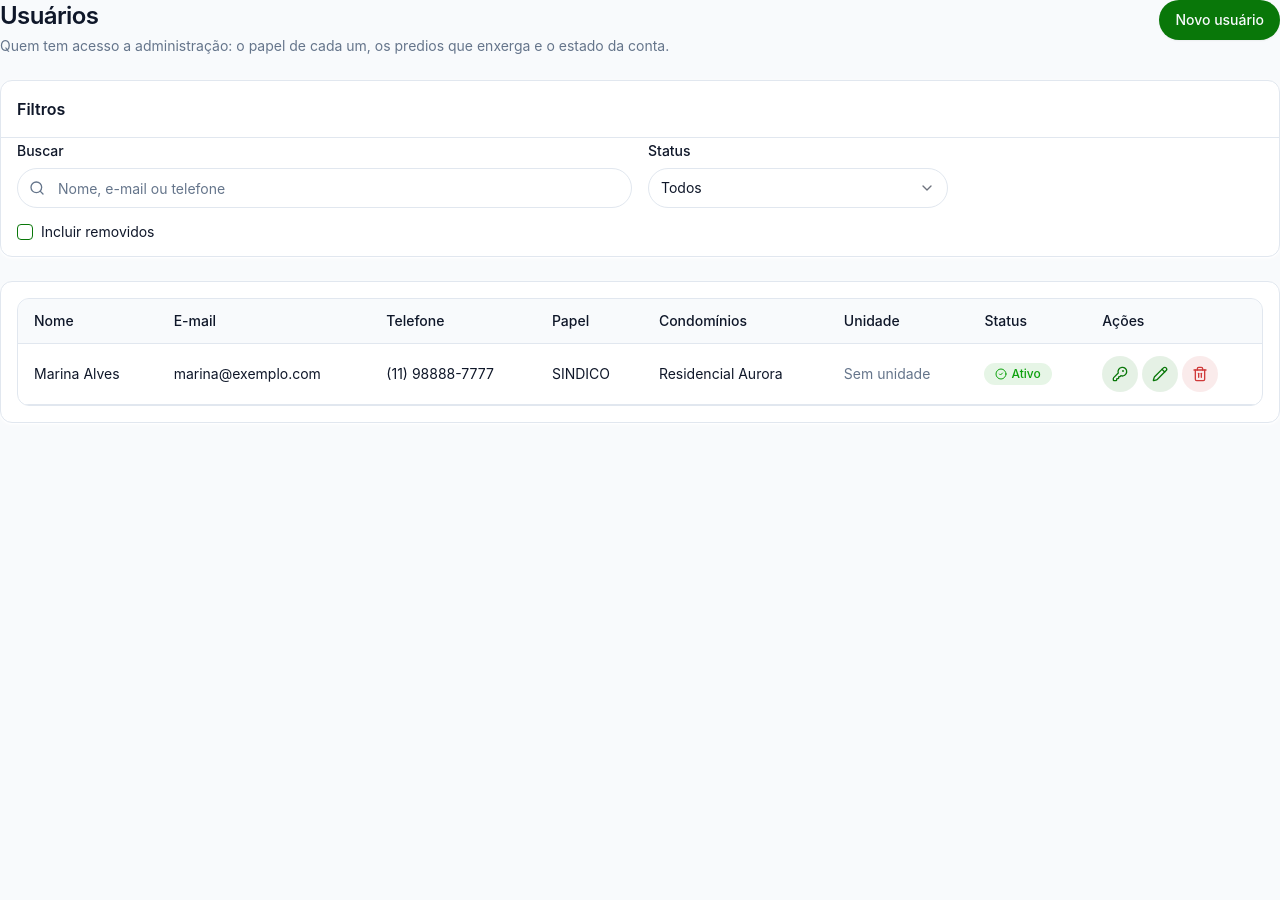
Reset de senha › dispensar a confirmação não dispara requisição nenhuma
The image size is (1280, 900).
Click the button named "Resetar senha de Marina Alves" at x=1120, y=374, box x1=1102 y1=356 x2=1138 y2=392
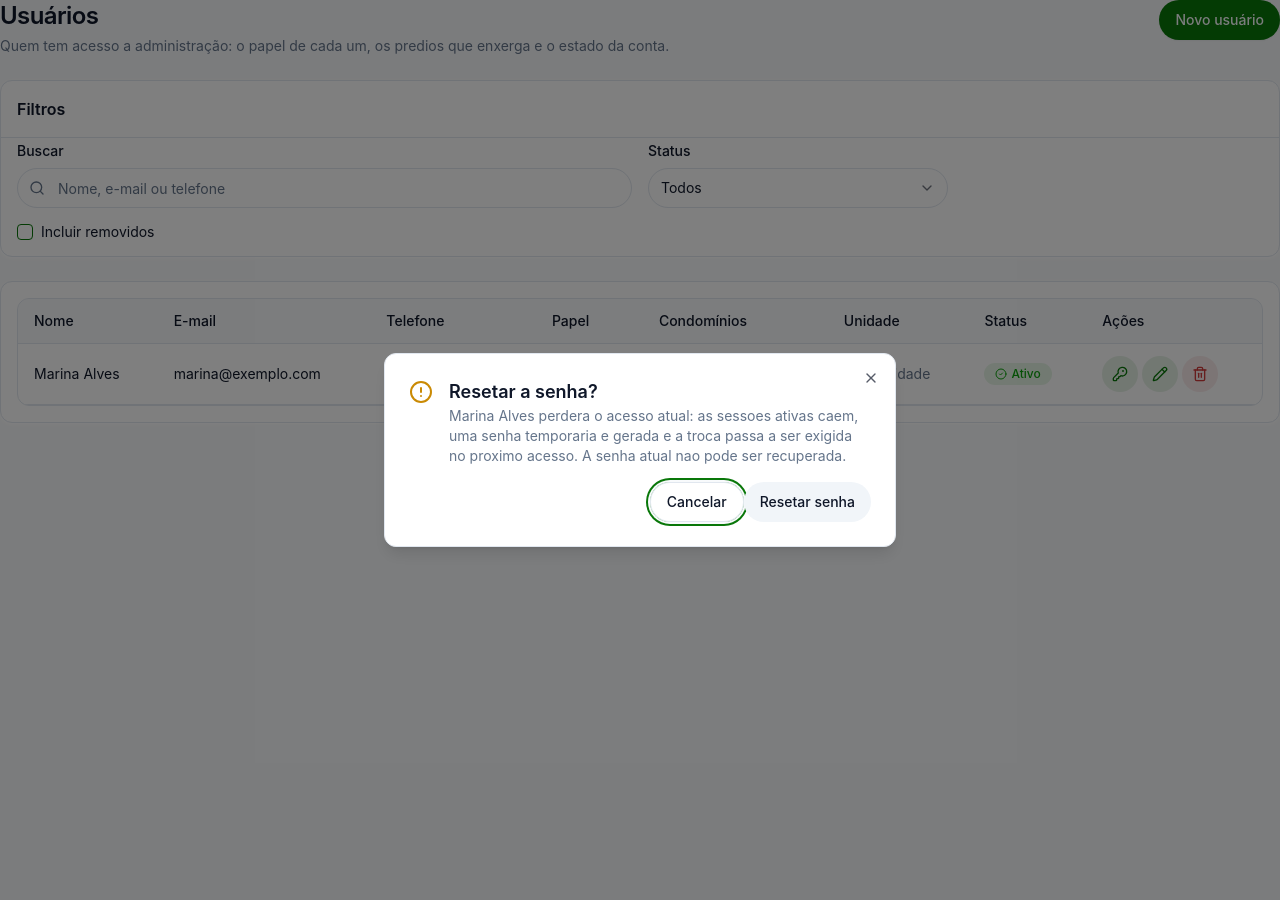
Check: the heading "Resetar a senha?" is shown, box x1=449 y1=381 x2=598 y2=402
Click the button "Cancelar" at x=697, y=502, box x1=650 y1=482 x2=744 y2=522
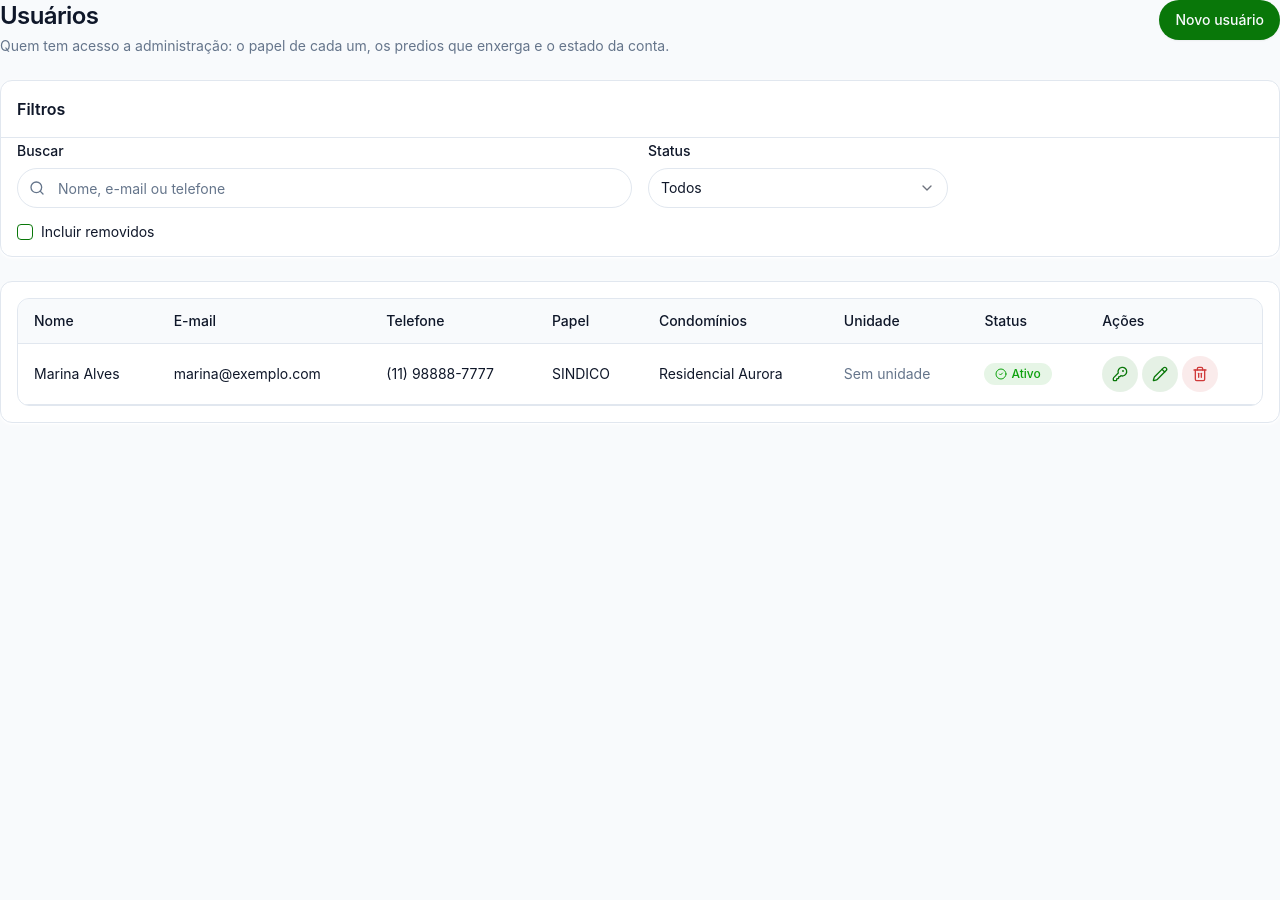
Check: the heading "Resetar a senha?" is gone
